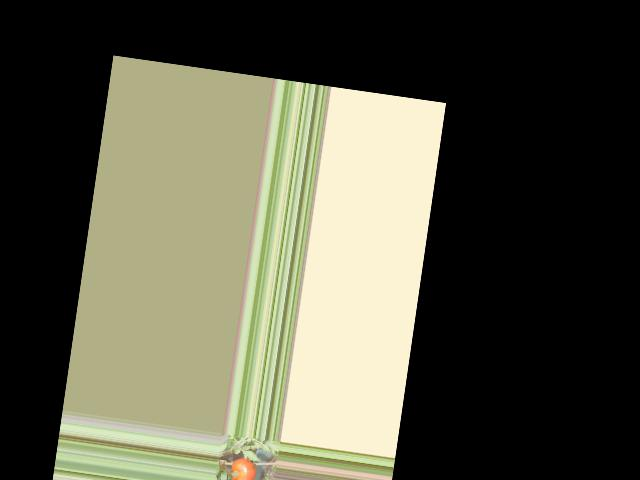tomato: (229, 455, 258, 480)
